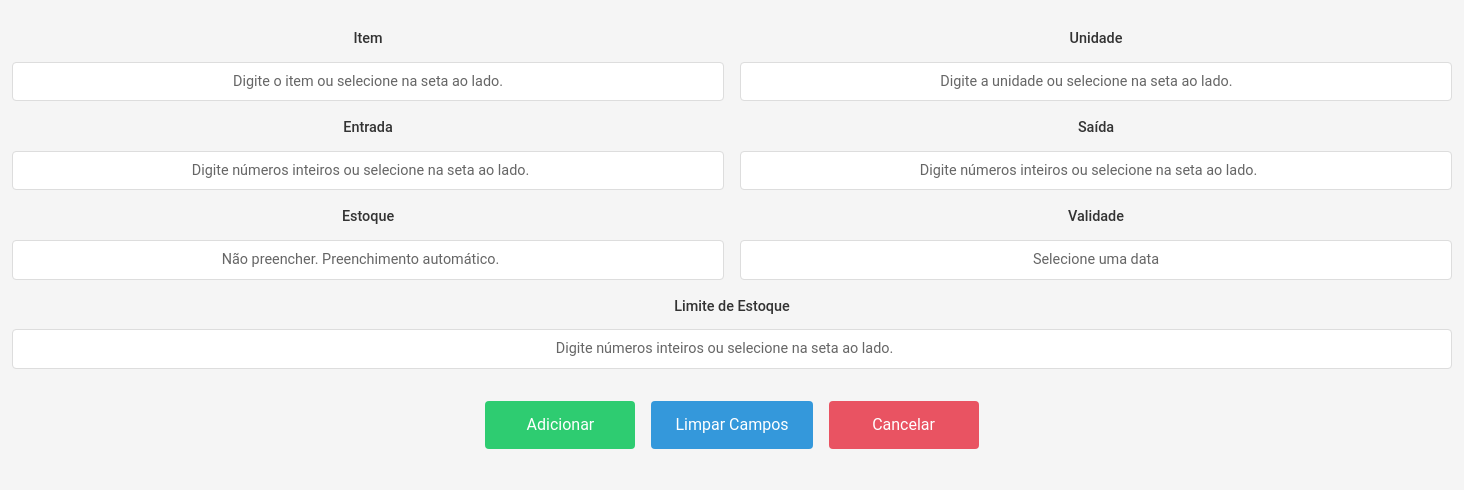
Test: AddItemForm › should show error message for duplicate item name
# Preencher com nome duplicado
Type "Arroz" into the field labelled "Item".
click(368, 81); type("Arroz")  # box [12,62,724,101]
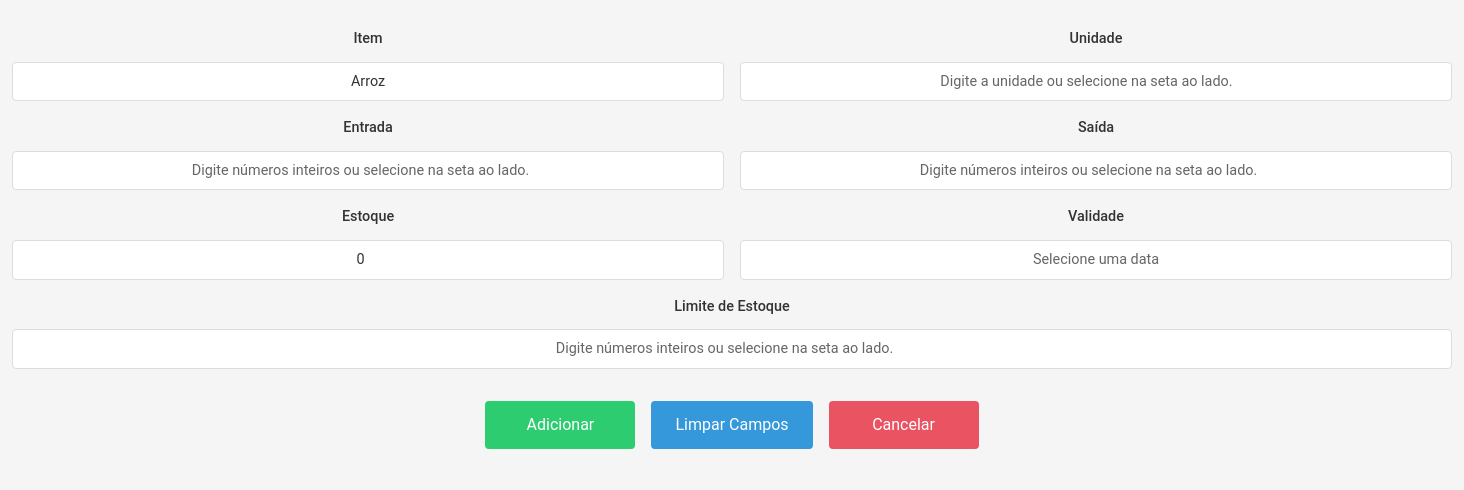
Type "Kg" into the field labelled "Unidade".
click(1096, 81); type("Kg")  # box [740,62,1452,101]
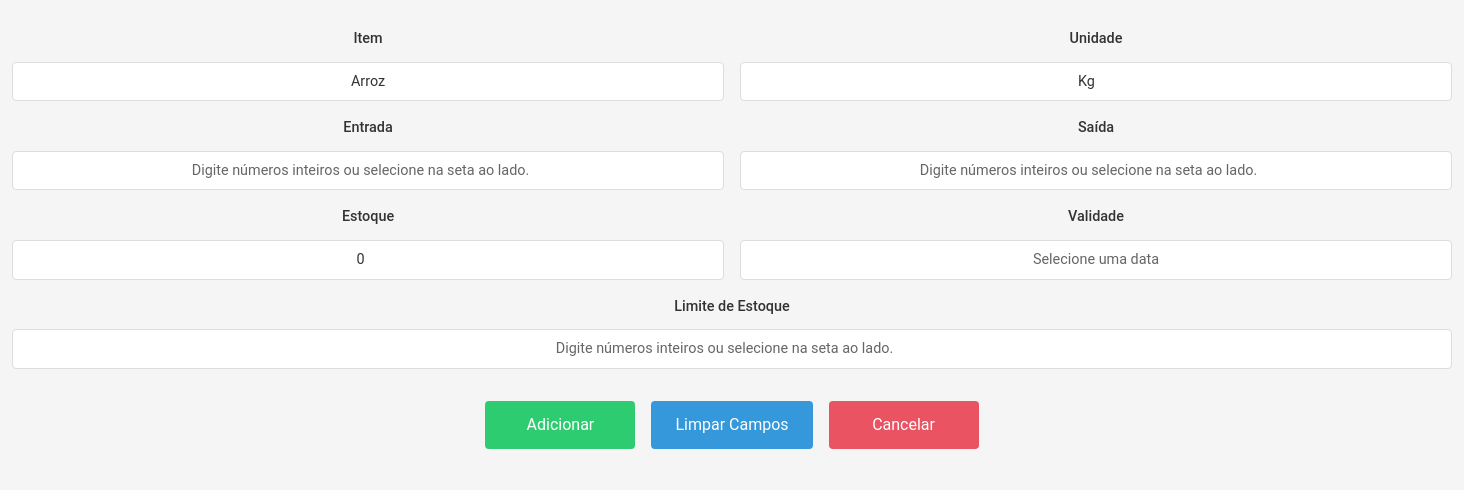
Click the button "Adicionar".
click(560, 425)  # box [485,401,635,449]
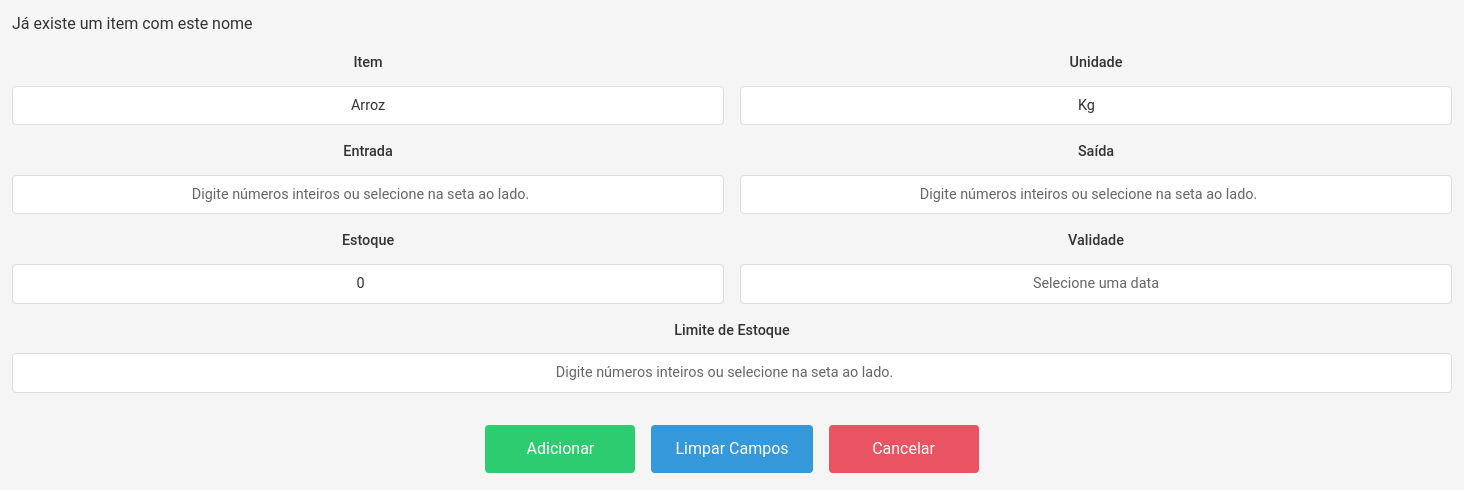
Result: the text "Já existe um item com este nome" is shown at [12,14,253,33]
